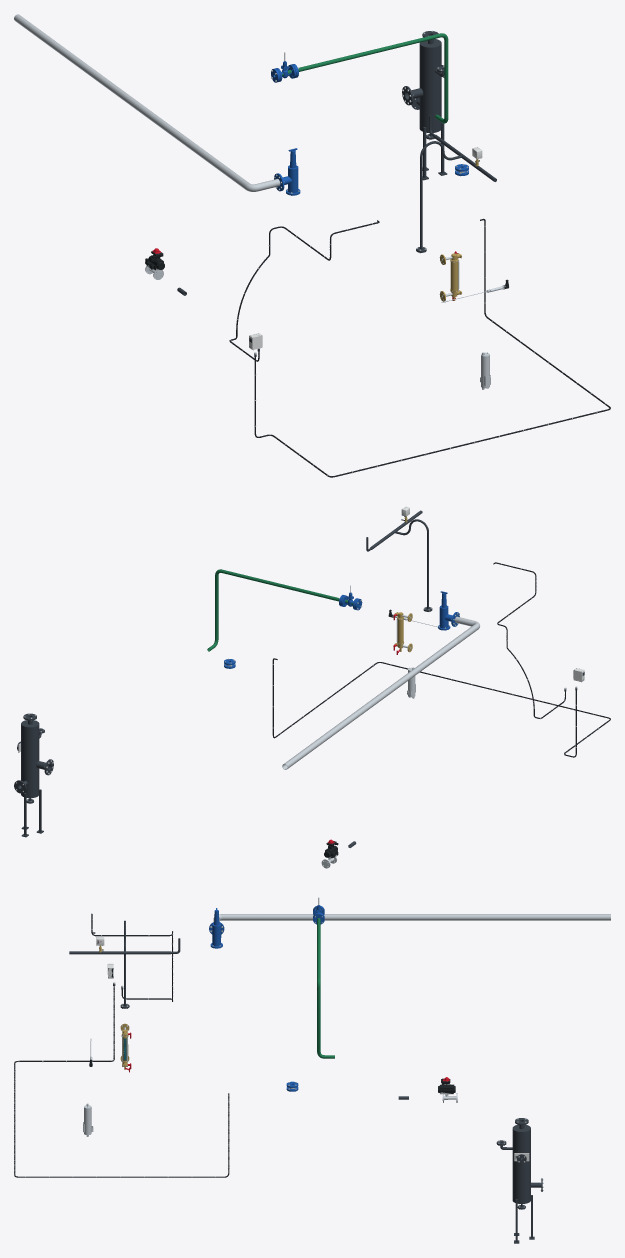
3 renders of one model, top to bottom at view 1: azimuth 30°, elevation 25°; view 2: azimuth 150°, elevation 25°; view 3: azimuth 270°, elevation 25°, orthographic. The views are drawn at different scales.
Visible parts, largest first — view 1: separator_fv8 / dark, safety_vent_2 / steel, wiring_pump_1 / black, to_direct / green, pressure_header / dark, wiring_lcs600 / black; view 2: separator_fv8 / dark, safety_vent_2 / steel, wiring_pump_1 / black, to_direct / green, pressure_header / dark; view 3: safety_vent_2 / steel, separator_fv8 / dark, wiring_pump_1 / black, pressure_header / dark, to_direct / green.
Boxes of the visible parts, bbox=[...] form: separator_fv8 / dark: bbox=[402, 31, 447, 180]; safety_vent_2 / steel: bbox=[14, 14, 280, 191]; wiring_pump_1 / black: bbox=[254, 218, 610, 477]; to_direct / green: bbox=[298, 33, 448, 123]; pressure_header / dark: bbox=[416, 115, 496, 252]; wiring_lcs600 / black: bbox=[229, 220, 379, 361]; separator_fv8 / dark: bbox=[14, 713, 53, 837]; safety_vent_2 / steel: bbox=[282, 616, 479, 769]; wiring_pump_1 / black: bbox=[272, 658, 610, 757]; to_direct / green: bbox=[207, 569, 339, 651]; pressure_header / dark: bbox=[366, 510, 432, 611]; safety_vent_2 / steel: bbox=[213, 914, 610, 921]; separator_fv8 / dark: bbox=[496, 1118, 542, 1243]; wiring_pump_1 / black: bbox=[14, 986, 229, 1177]; pressure_header / dark: bbox=[69, 920, 180, 1008]; to_direct / green: bbox=[317, 918, 334, 1058].
Size of the model in its own units: 5.02 by 3.01 by 7.03.
